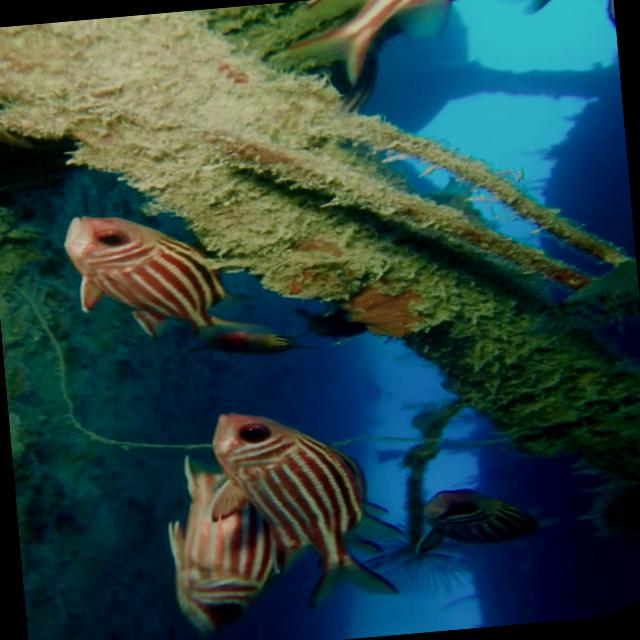Asker Baligi: (154, 396, 414, 637), (57, 194, 316, 373)
